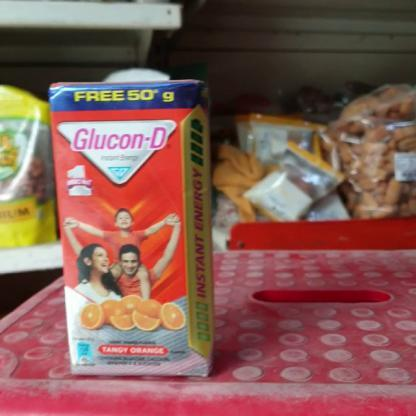Glucon D Tangy orange 1-KG: (57, 88, 202, 376)
